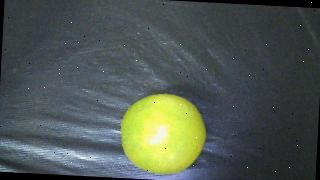LOCAL: (119, 92, 208, 177)
